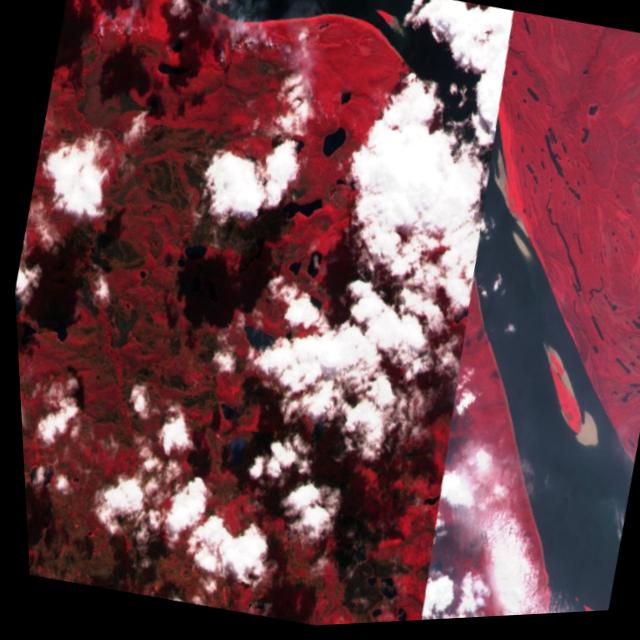fire: (196, 4, 342, 129), (298, 230, 410, 314), (75, 0, 185, 73), (405, 347, 462, 424)
